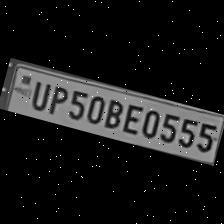0: (136, 104, 163, 140), (82, 90, 108, 127)
5: (154, 108, 182, 146), (62, 86, 90, 123), (192, 119, 220, 156), (173, 114, 200, 150)
B: (99, 94, 126, 132)
E: (118, 100, 144, 136)
P: (44, 80, 71, 118)
U: (25, 76, 52, 113)
